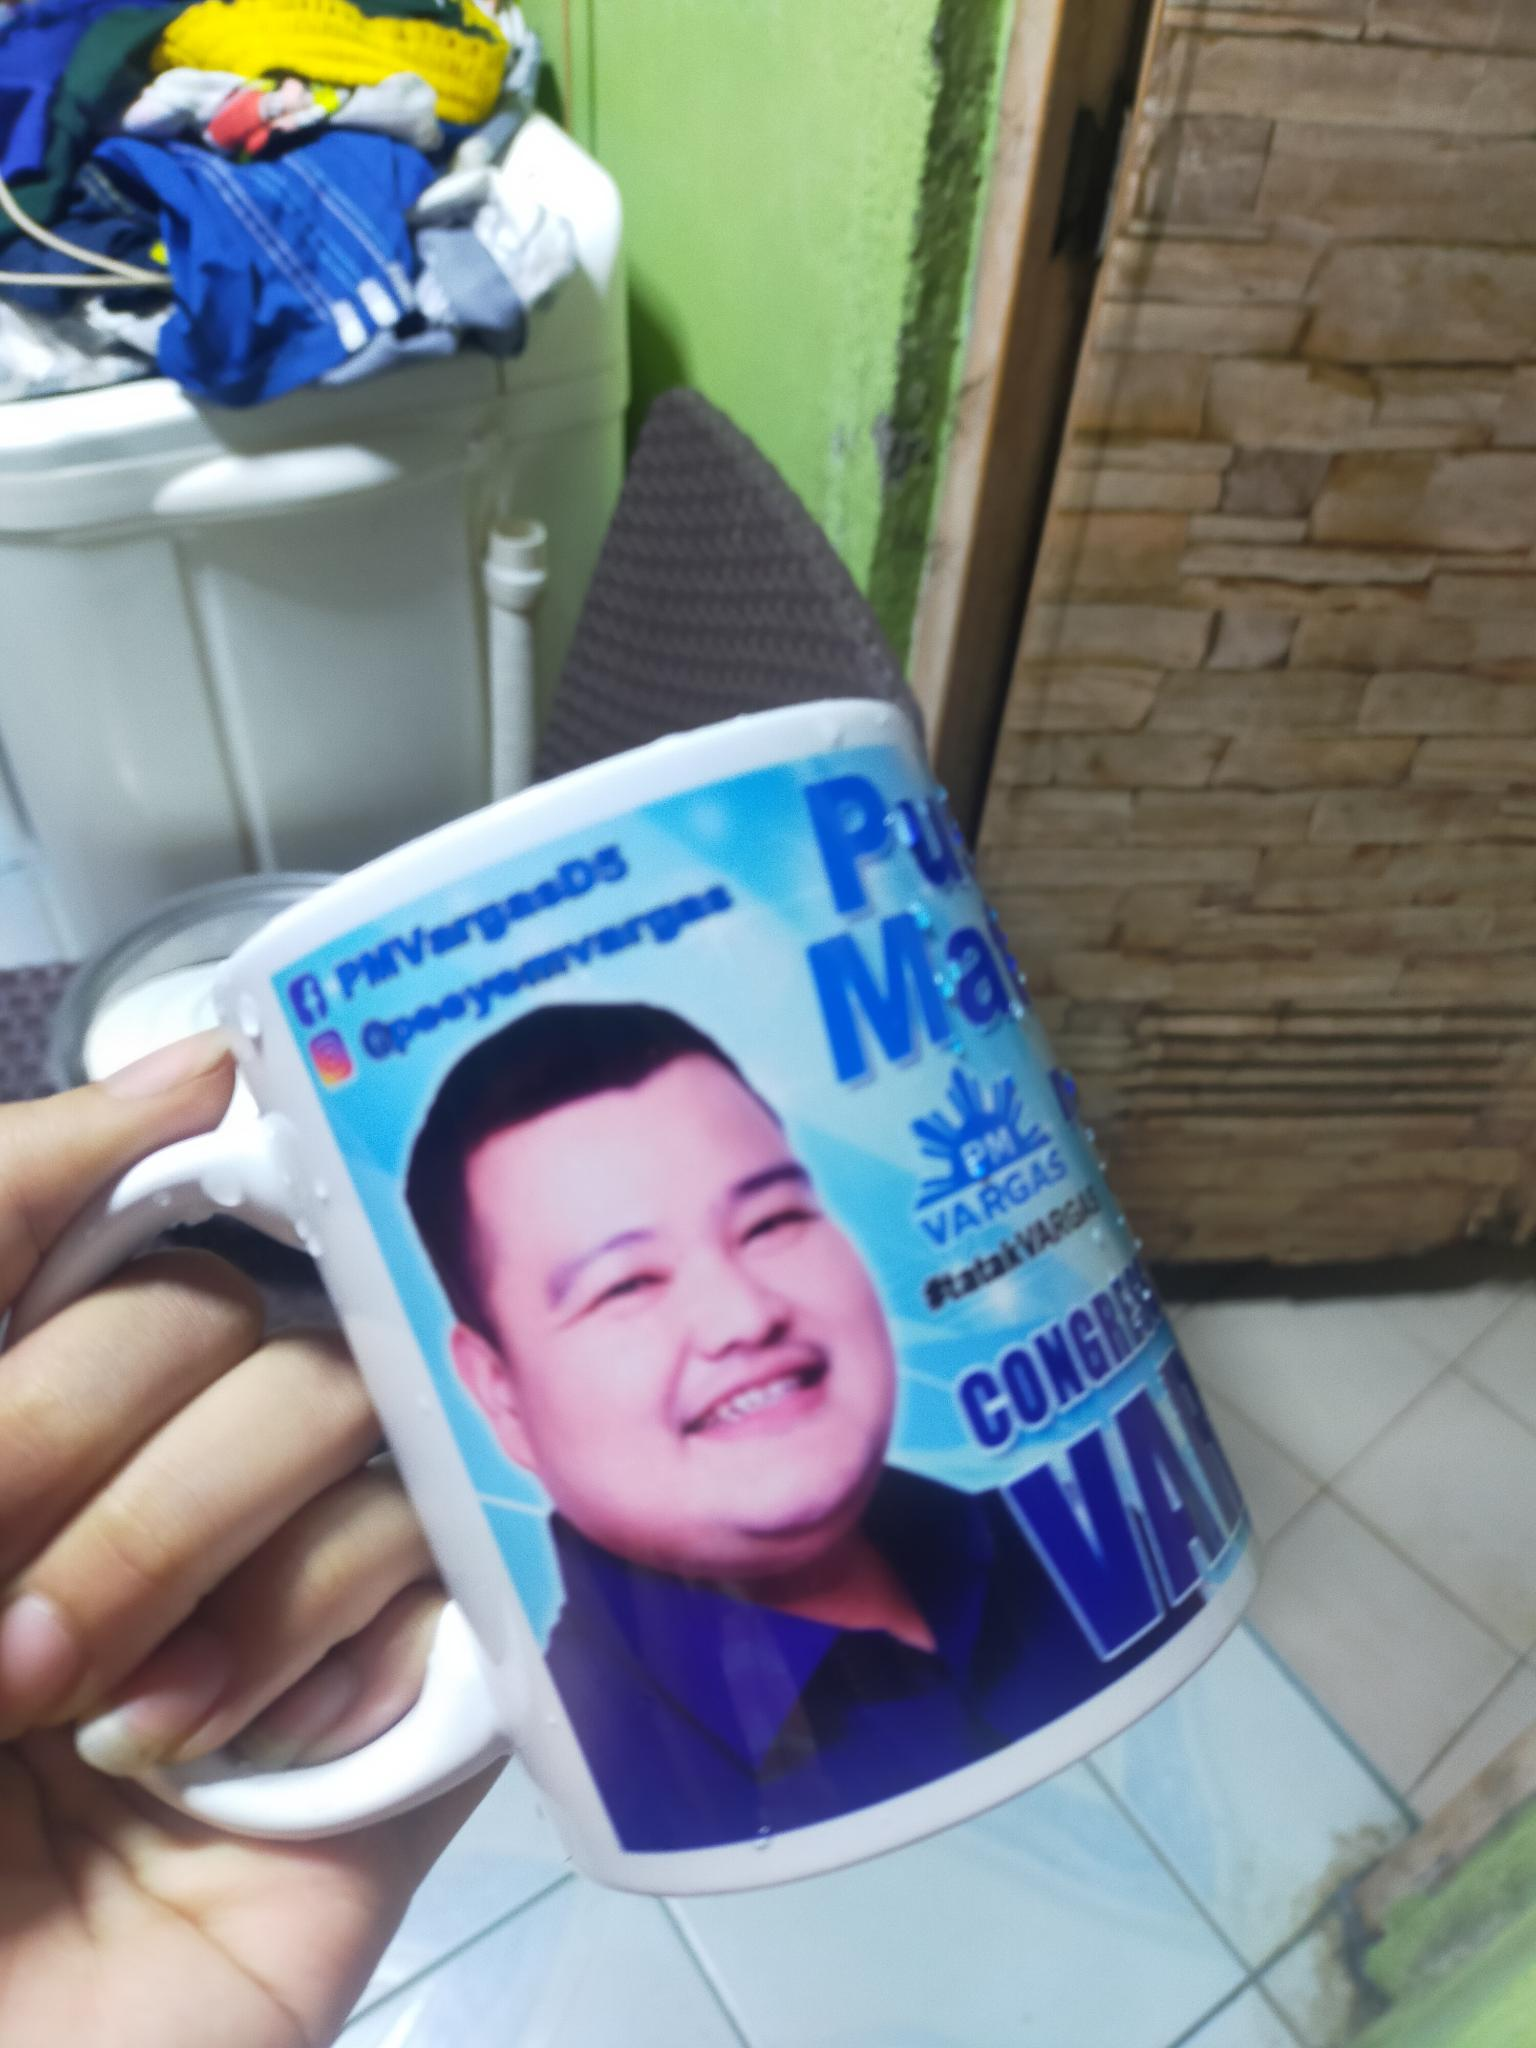Coffee Mug: (18, 705, 1263, 1884)
